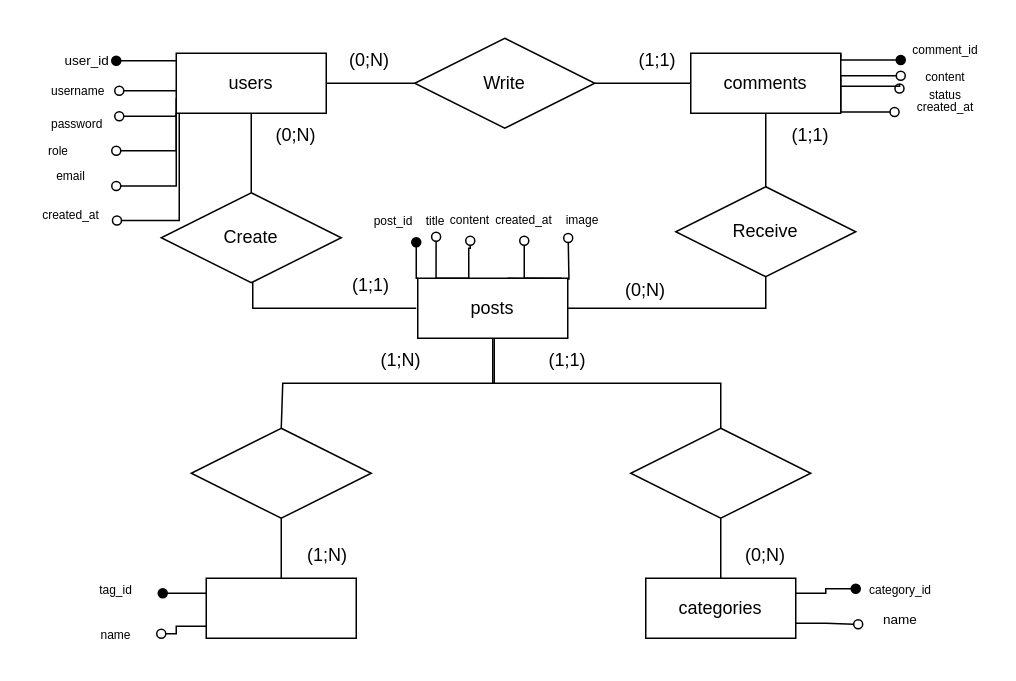
This 1016x681 diagram has some shape labels left out. The centre of each missing label's shape, as x and y in pixels:
"Belong" goes at (x=720, y=472).
"Has" goes at (x=280, y=472).
"tags" goes at (x=280, y=607).
